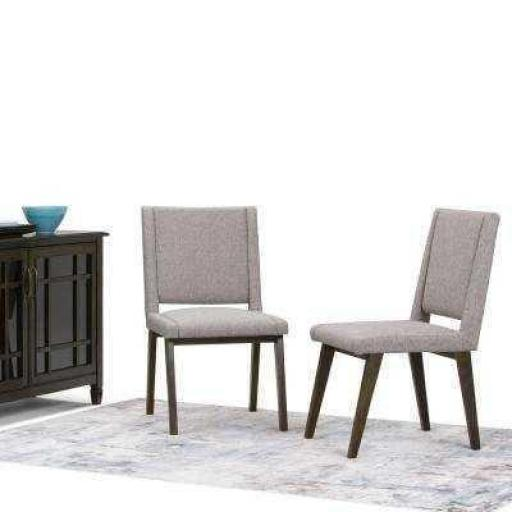chair: (138, 194, 302, 441)
